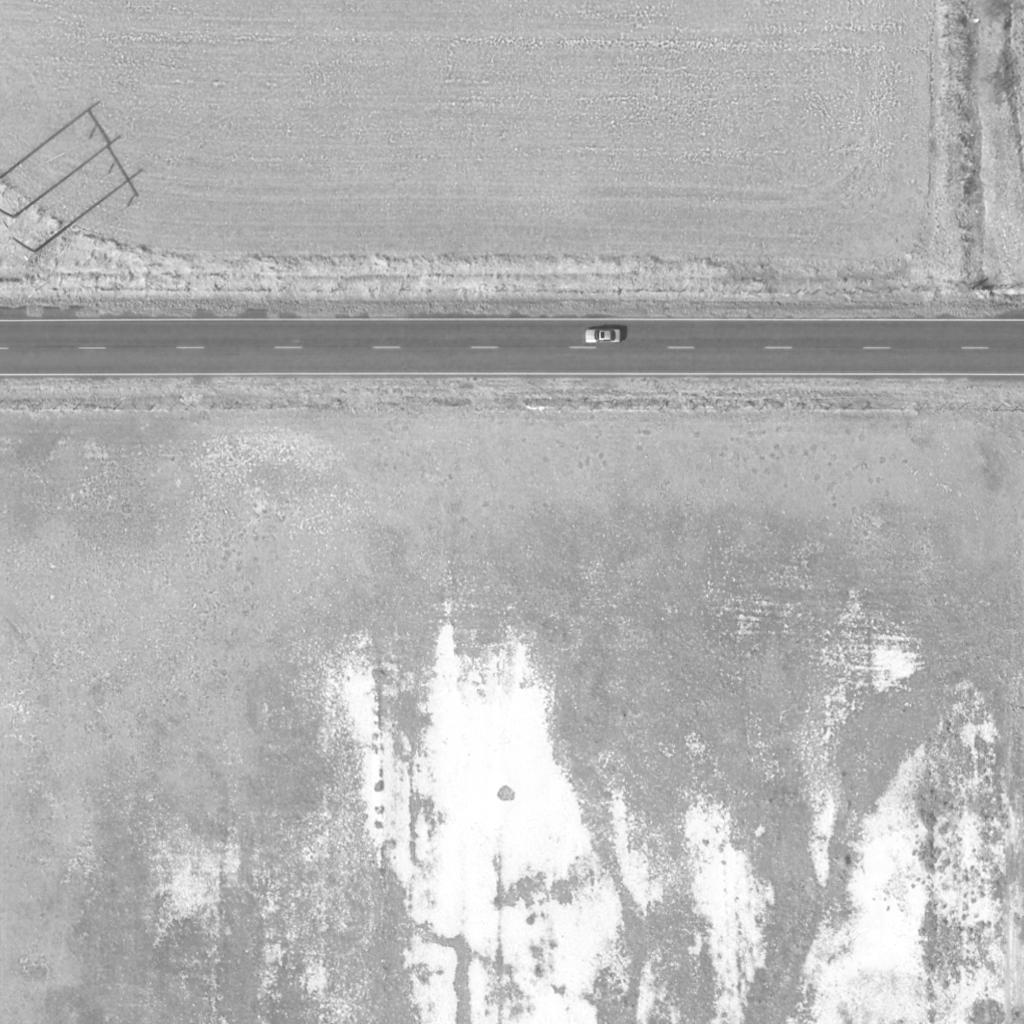vehicle: (585, 327, 623, 345)
